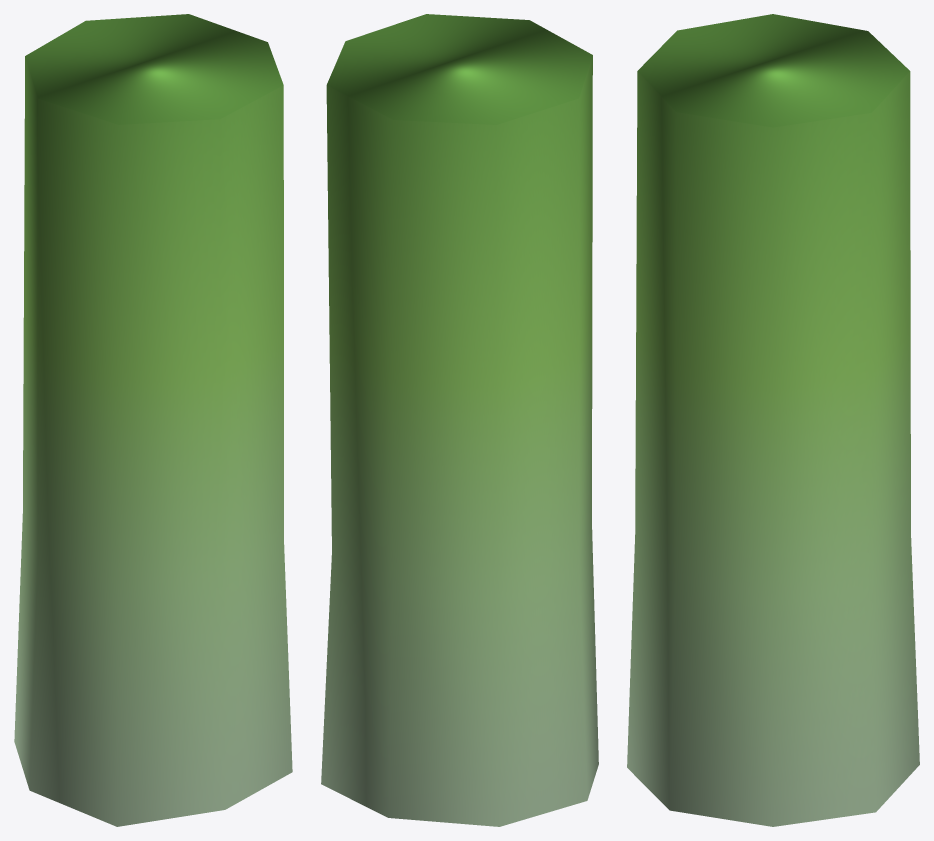
File: greenonion_piece3.fbx
3 renders of one model, left to right at view 1: azimuth 30°, elevation 25°; view 2: azimuth 150°, elevation 25°; view 3: azimuth 270°, elevation 25°, orthographic.
Visible parts, largest first — view 1: GreenOnion.008; view 2: GreenOnion.008; view 3: GreenOnion.008.
Boxes of the visible parts, left/top/right/bottom form: GreenOnion.008: left=14, top=14, right=292, bottom=826; GreenOnion.008: left=321, top=14, right=598, bottom=826; GreenOnion.008: left=627, top=14, right=919, bottom=826.
Bounding box in the file's own units: 39.07 × 105 × 39.22.
